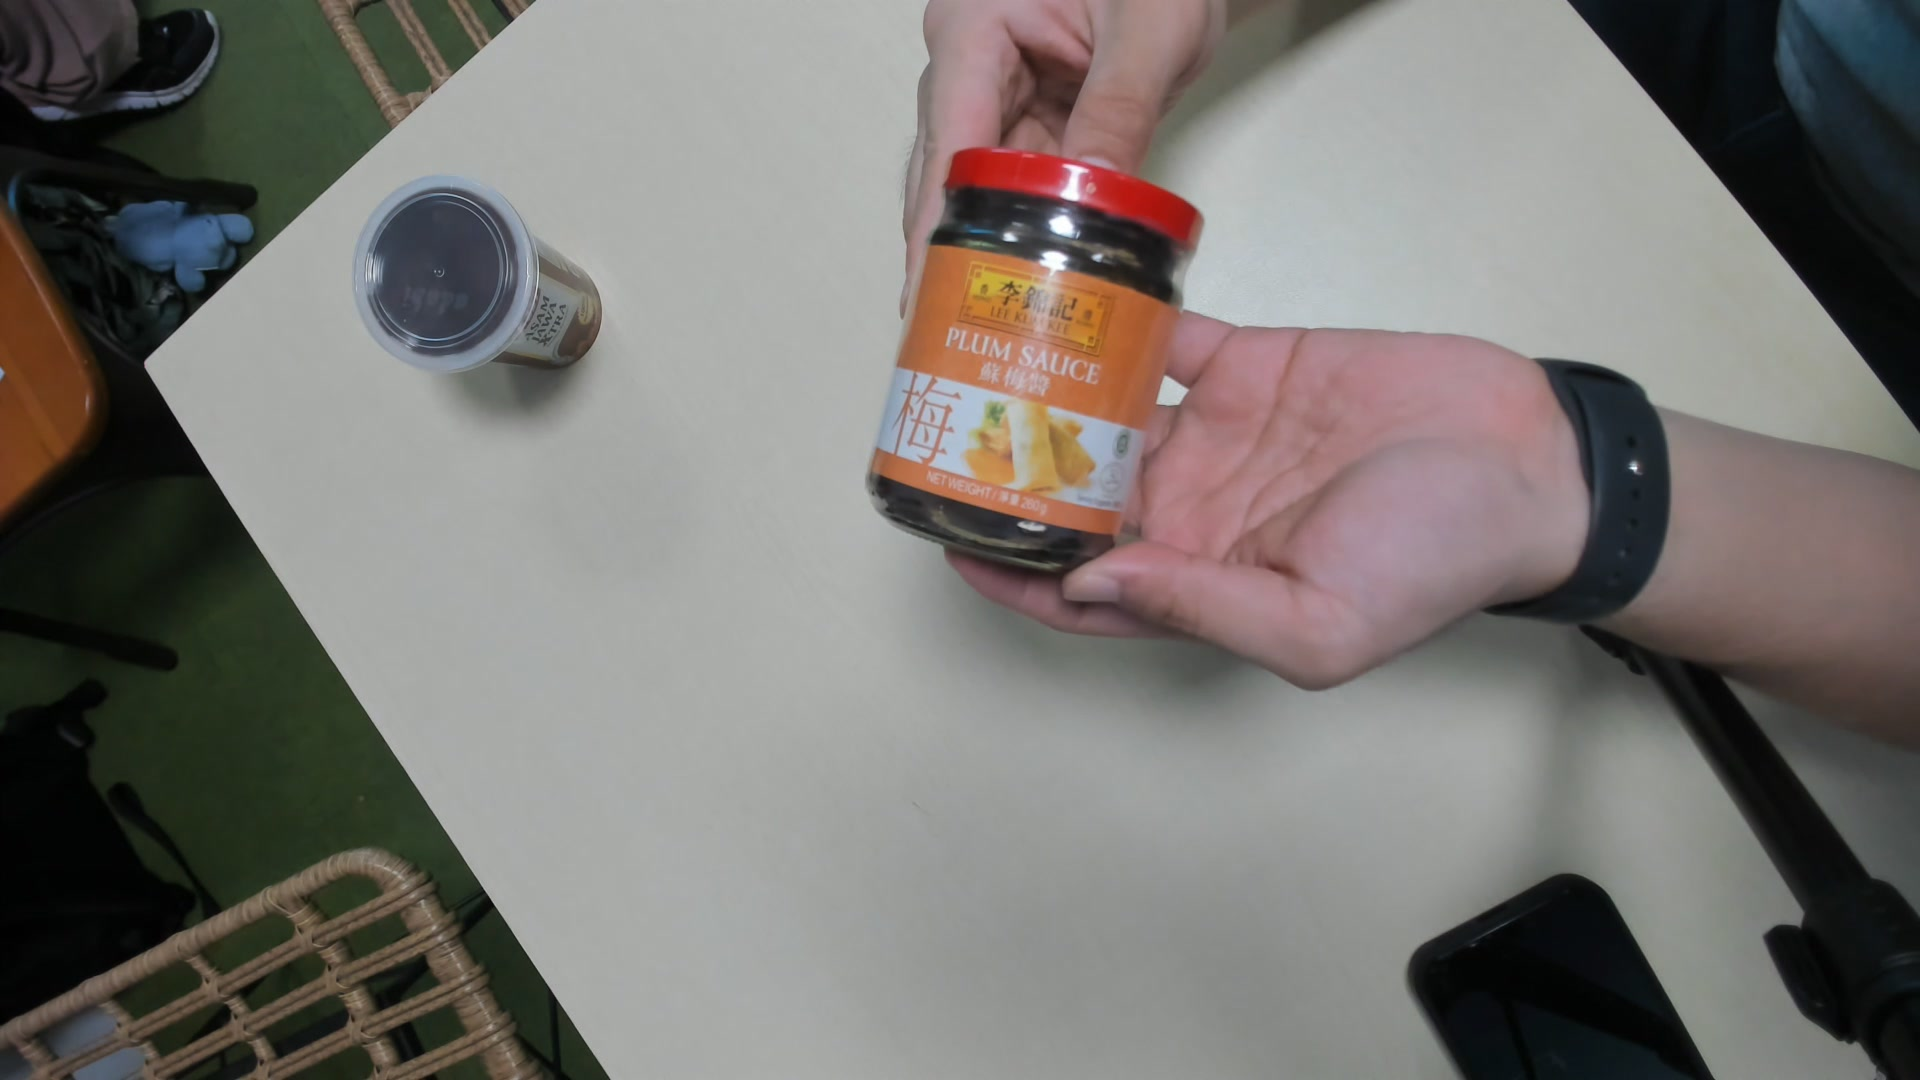OtherSauceDressing_200-299g_Halal_NonHealthy: (872, 138, 1197, 580)
